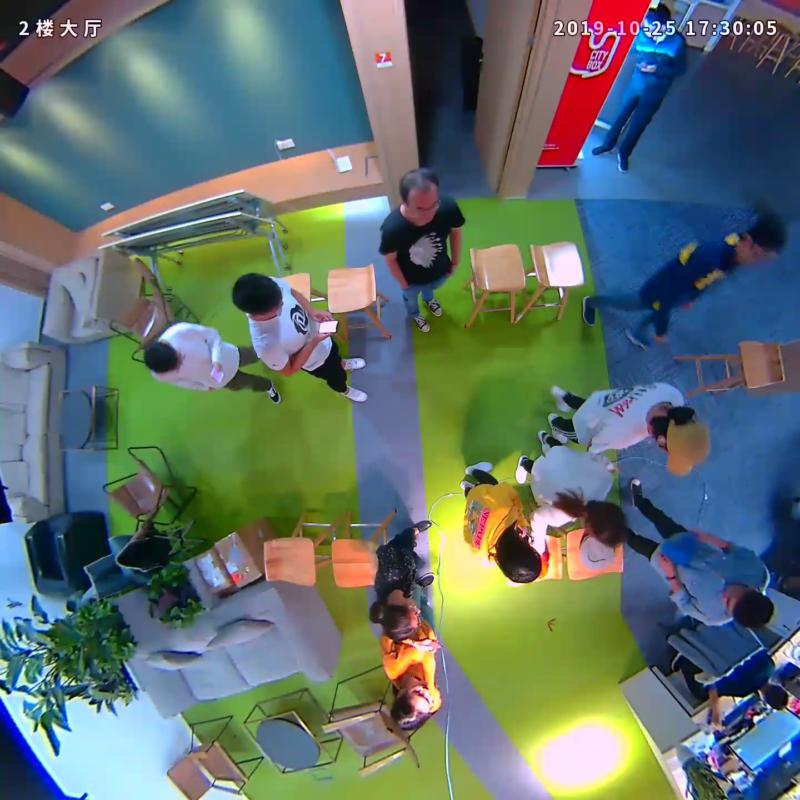head: (652, 405, 711, 477), (734, 214, 785, 265), (231, 271, 283, 321), (721, 583, 776, 630), (399, 167, 441, 222), (582, 498, 627, 548), (390, 682, 433, 729), (497, 539, 542, 583), (380, 595, 421, 641), (144, 338, 179, 374), (641, 3, 671, 41)
